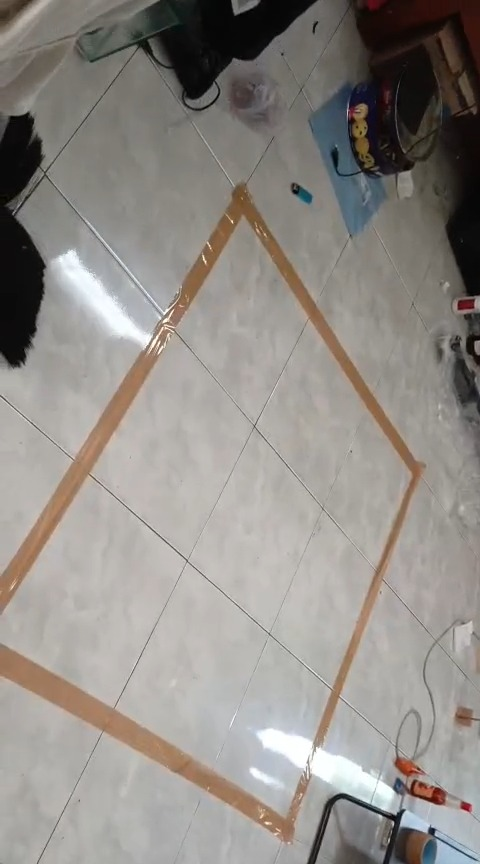floor marking: (0, 184, 424, 840)
